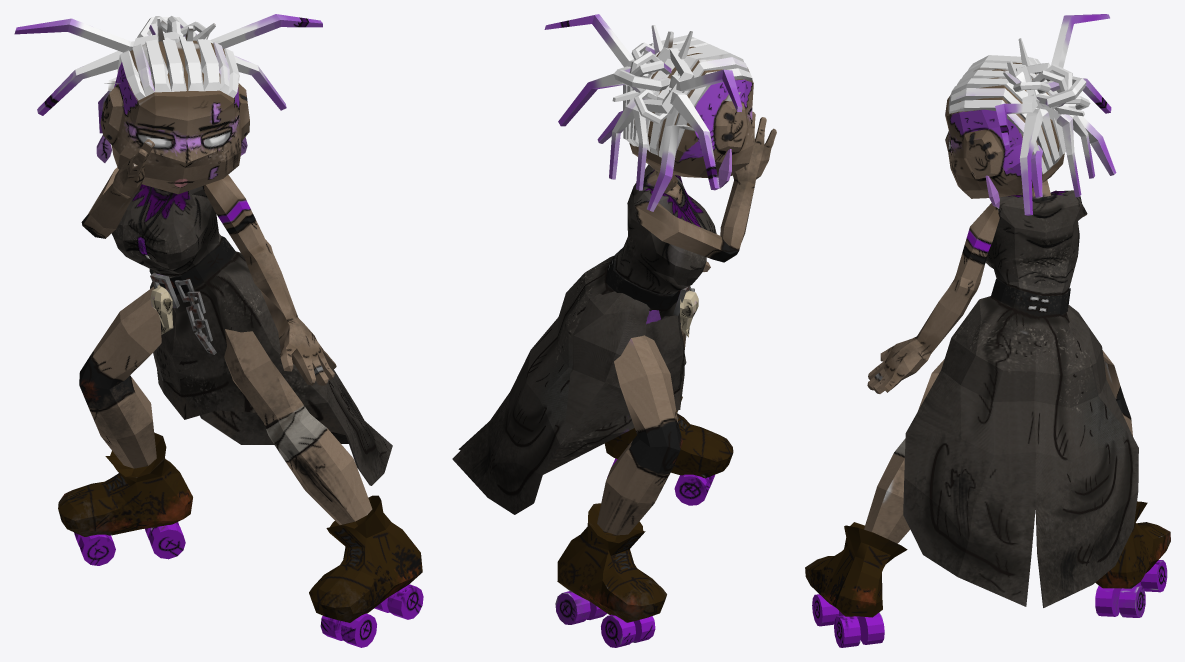
The model's file is bruja_000056.obj.
3 renders of one model, left to right at view 1: azimuth 30°, elevation 25°; view 2: azimuth 150°, elevation 25°; view 3: azimuth 270°, elevation 25°, orthographic. The views are drawn at different scales.
Visible parts, largest first — view 1: Bruja_Plane.001; view 2: Bruja_Plane.001; view 3: Bruja_Plane.001.
Boxes of the visible parts, x1,y1,x2,y2 form: Bruja_Plane.001: (14, 14, 423, 647); Bruja_Plane.001: (452, 14, 776, 647); Bruja_Plane.001: (805, 14, 1170, 647).
Bounding box in the file's own units: 9.23 × 15.43 × 9.25.
